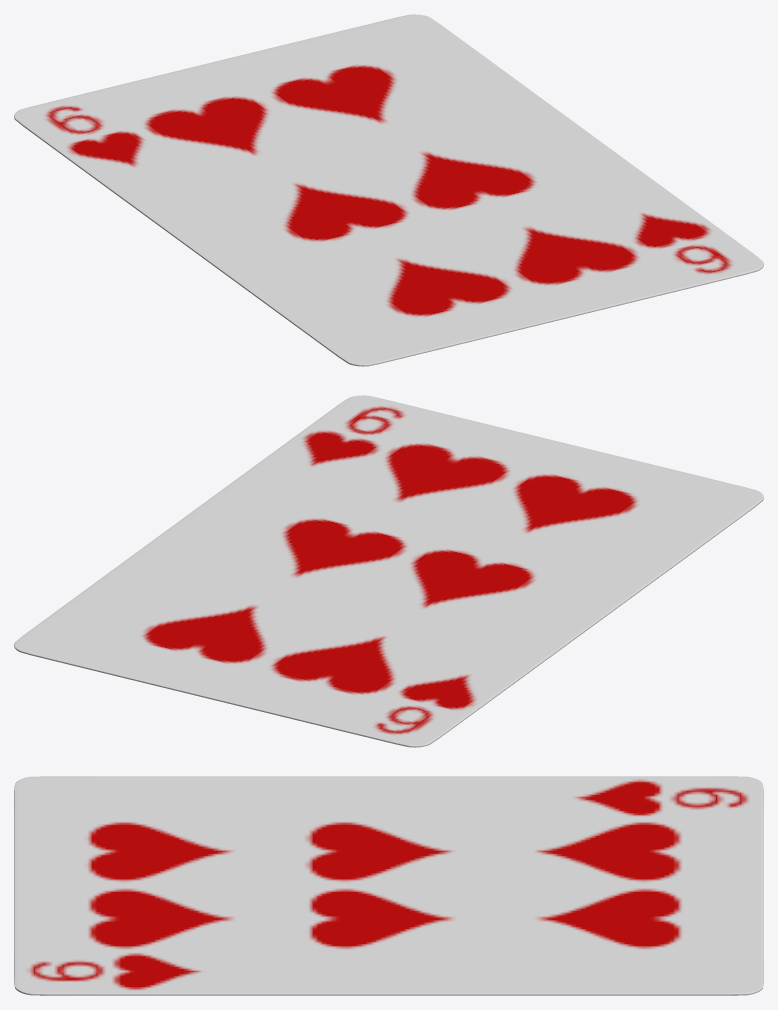
Rendered from six_of_hearts.fbx.
3 views of the same model, one above another, from view 1: azimuth 30°, elevation 25°; view 2: azimuth 150°, elevation 25°; view 3: azimuth 270°, elevation 25° (orthographic). The views are drawn at different scales.
Visible parts, largest first — view 1: six_of_hearts; view 2: six_of_hearts; view 3: six_of_hearts.
Boxes of the visible parts, left/top/right/bottom form: six_of_hearts: left=14, top=14, right=763, bottom=366; six_of_hearts: left=14, top=395, right=763, bottom=747; six_of_hearts: left=14, top=776, right=763, bottom=995.
Size of the model in its own units: 589 by 2.4 by 856.
